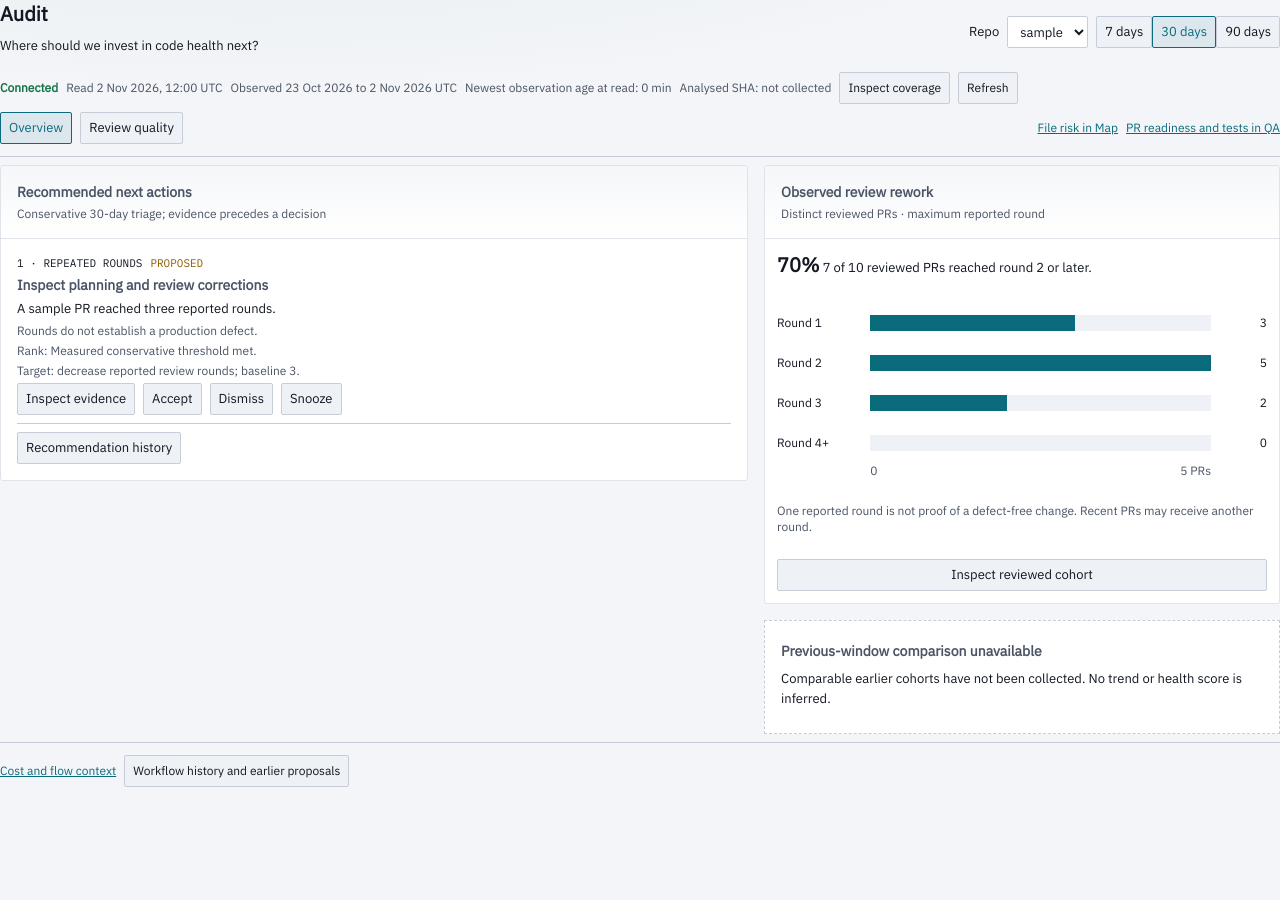
Scenario: shows a later assessment without promising another board handoff
Check: the heading "Inspect planning and review corrections" is shown, box x1=17 y1=276 x2=268 y2=294
Click the button "Recommendation history" at (99, 448), box x1=17 y1=432 x2=181 y2=464
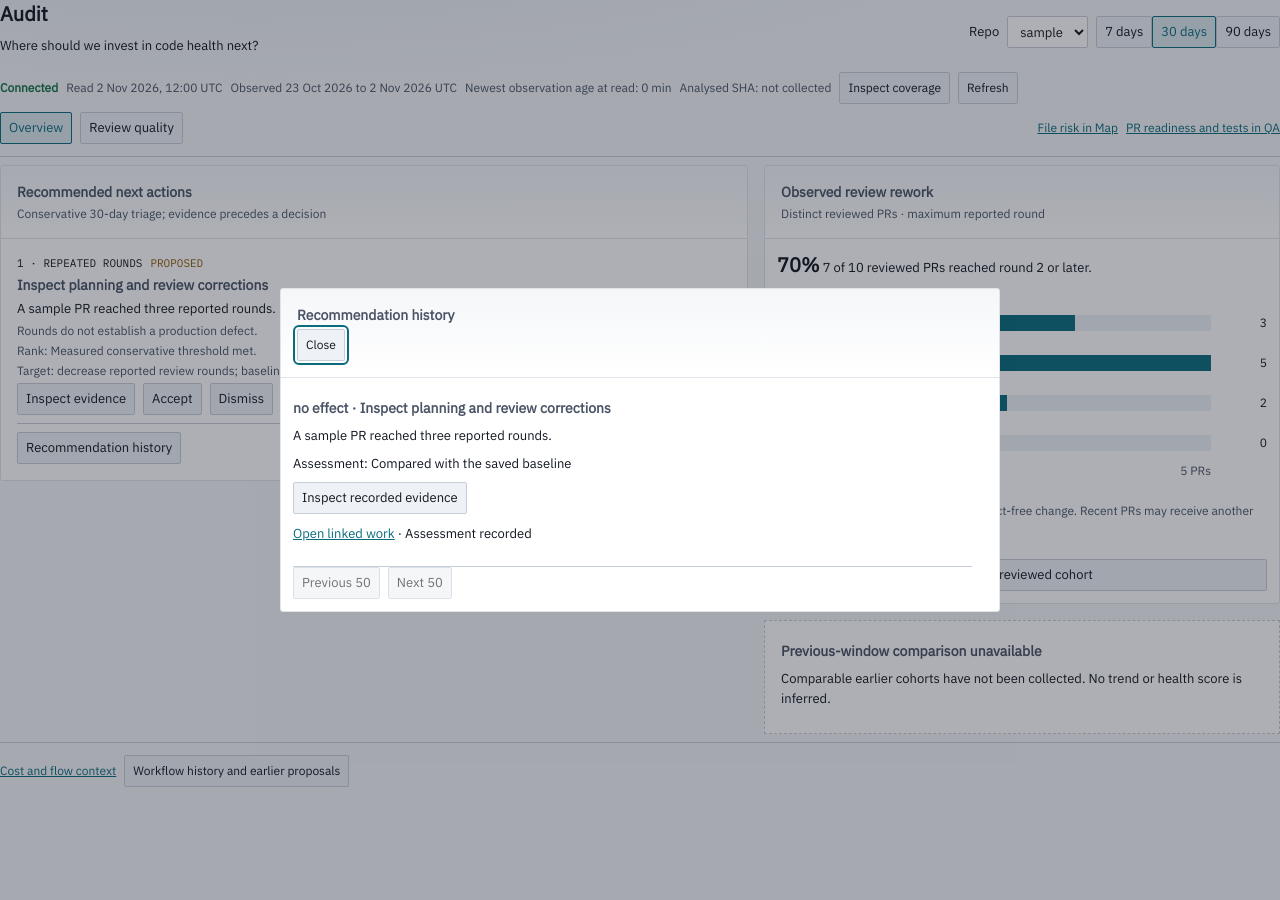
Check: the text "Open linked work · Assessment recorded" is shown, box x1=293 y1=525 x2=532 y2=542
